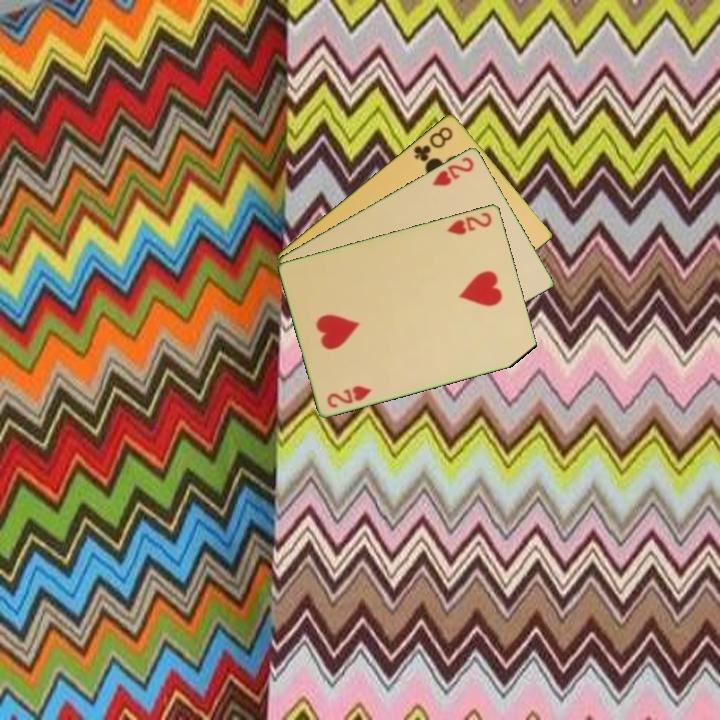2h: (429, 153, 477, 189), (443, 208, 495, 237), (324, 381, 375, 410)
8c: (410, 122, 456, 164)
